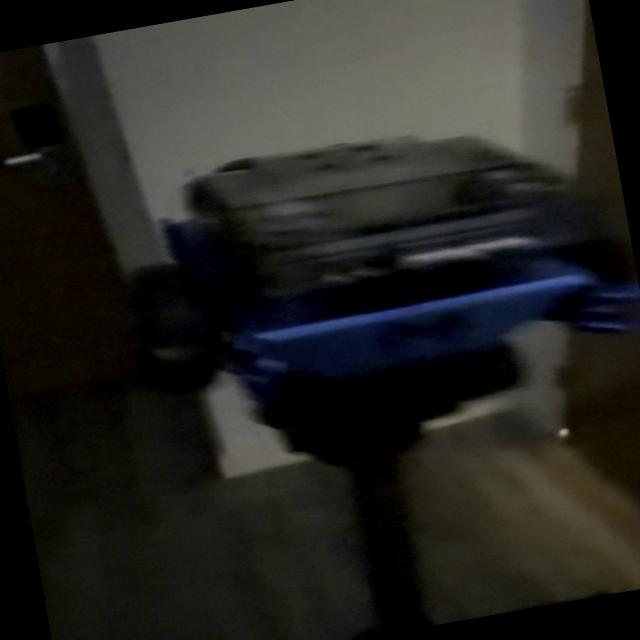mbot-detection: (97, 83, 640, 437)
